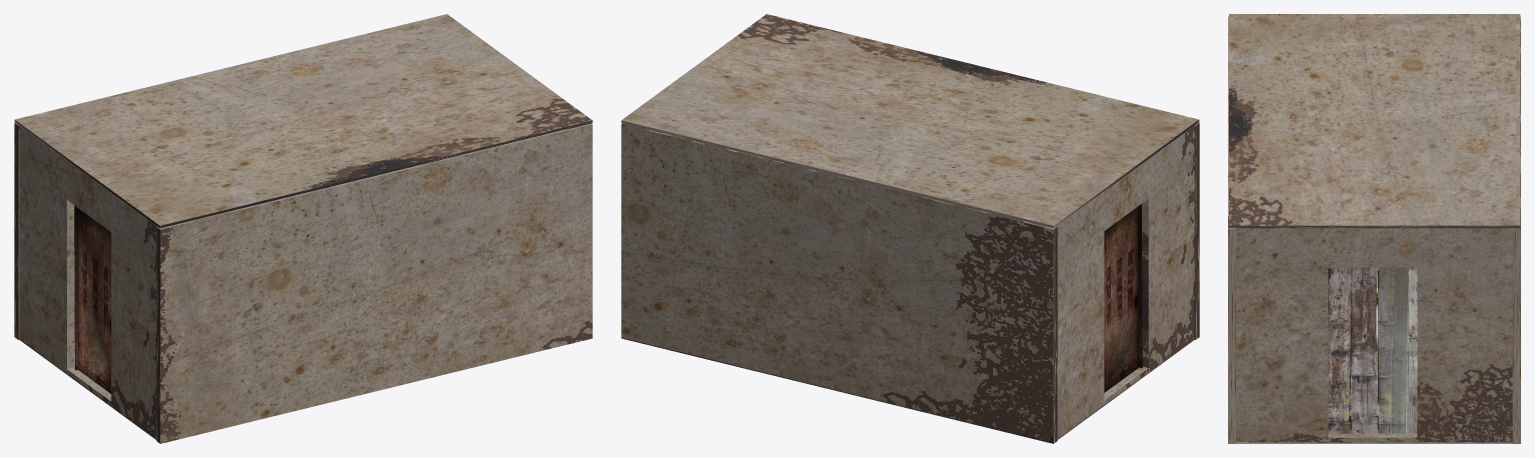
File: room.obj
3 views of the same model, side by side, from view 1: azimuth 30°, elevation 25°; view 2: azimuth 150°, elevation 25°; view 3: azimuth 270°, elevation 25° (orthographic).
Parts seen in each view (by area): view 1: pasted__polySurface38; view 2: pasted__polySurface38; view 3: pasted__polySurface38.
Boxes of the visible parts, x1,y1,x2,y2 form: pasted__polySurface38: (14,14,592,443); pasted__polySurface38: (621,14,1199,443); pasted__polySurface38: (1228,14,1520,443).
Size of the model in its own units: 8.22 by 3.96 by 4.81.
Materials: 4 (4 with a texture image).
